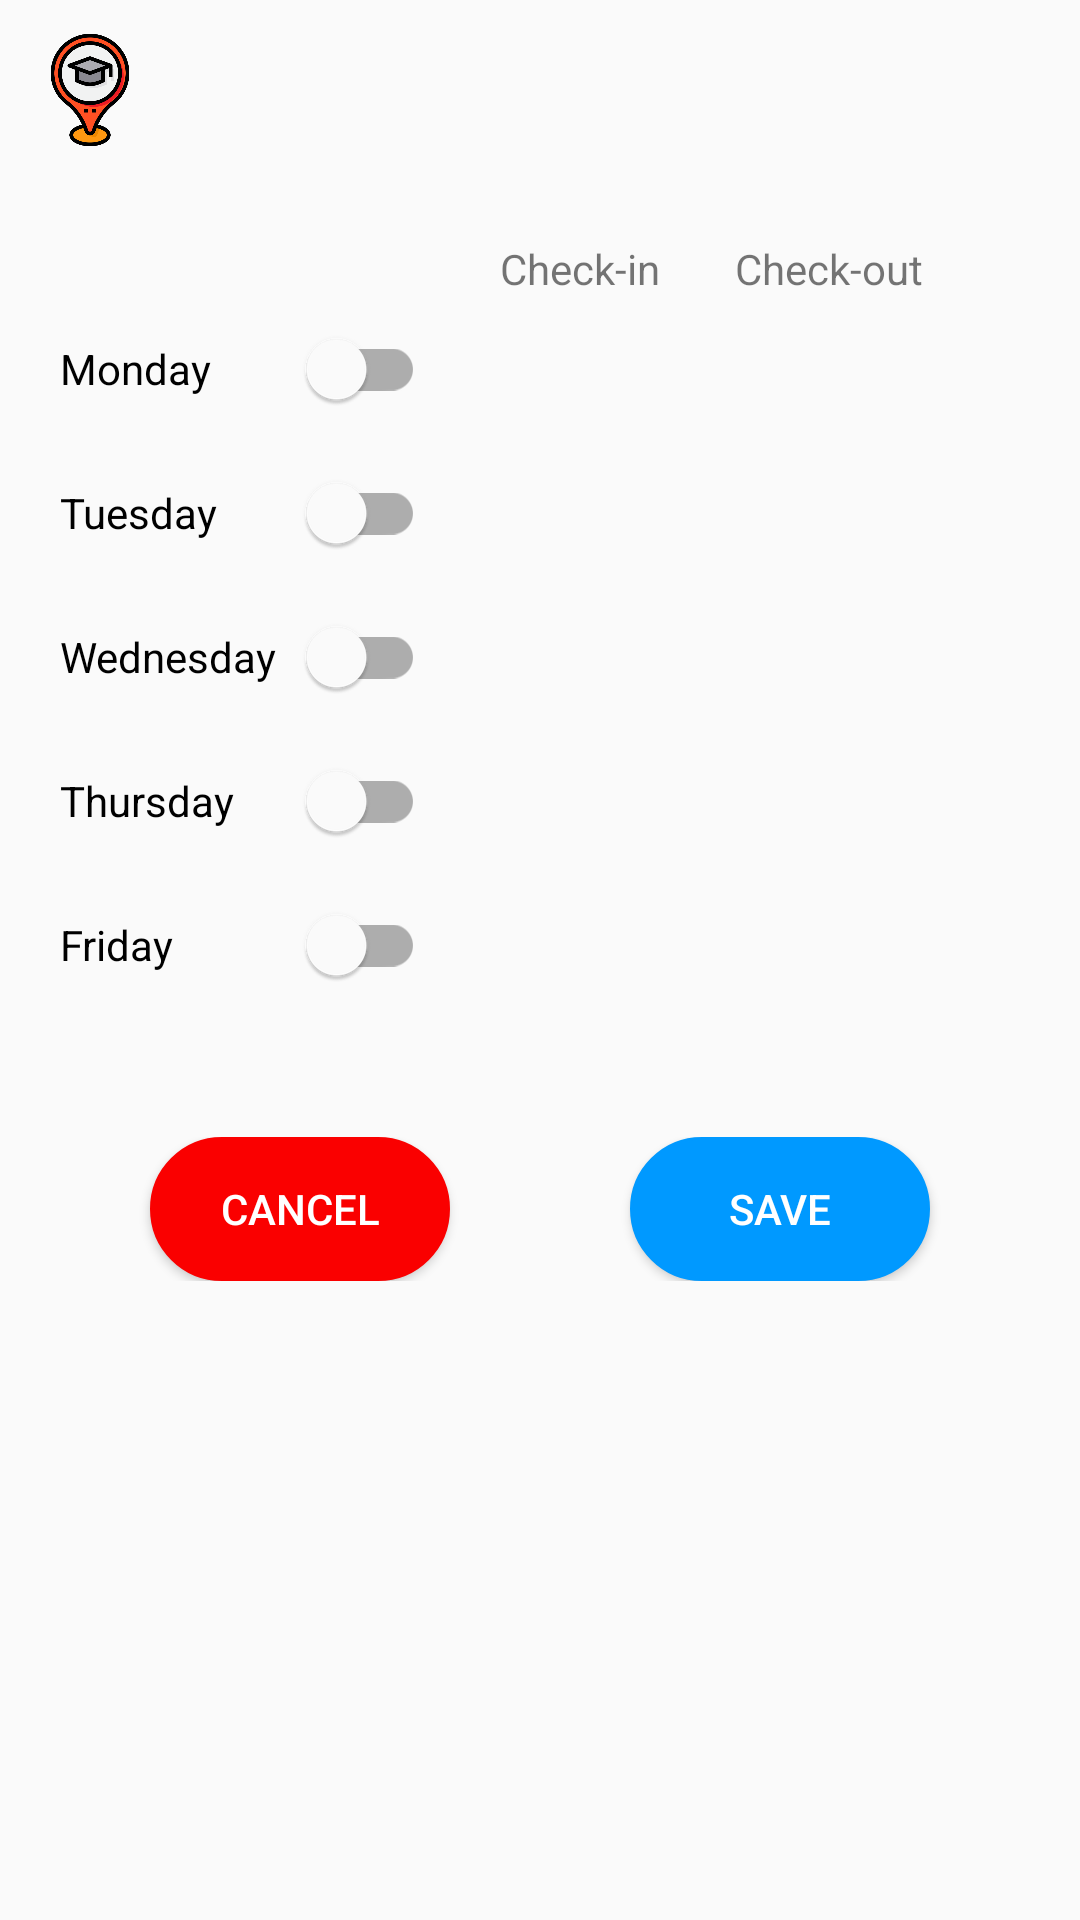

Icon bounding boxes for this 1080w x 1920h phone screenshot, format (x1, y1, x2, y2):
uni location: (51, 34, 129, 146)
